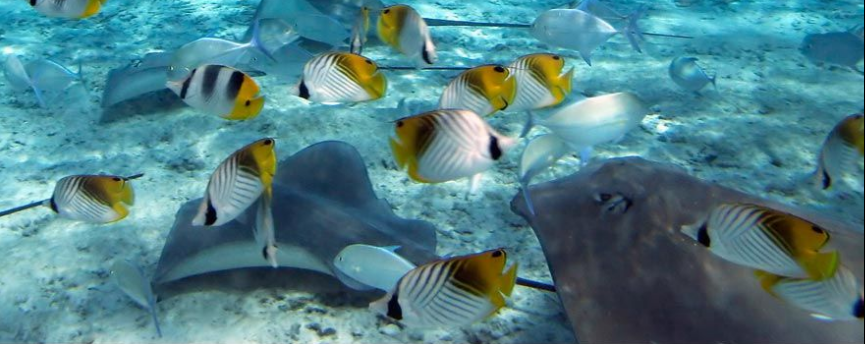fishLarge: (520, 92, 654, 166), (530, 5, 645, 69), (180, 18, 276, 71), (105, 252, 164, 338), (332, 241, 413, 294), (796, 23, 860, 78), (30, 51, 91, 99), (668, 50, 717, 100), (3, 45, 41, 108)
fishRound: (679, 196, 840, 283), (366, 247, 520, 331), (390, 107, 525, 200), (189, 136, 278, 228), (166, 61, 265, 125), (762, 264, 865, 323), (287, 49, 387, 107), (44, 171, 142, 223), (374, 2, 439, 71), (437, 63, 518, 117), (511, 51, 578, 110)
